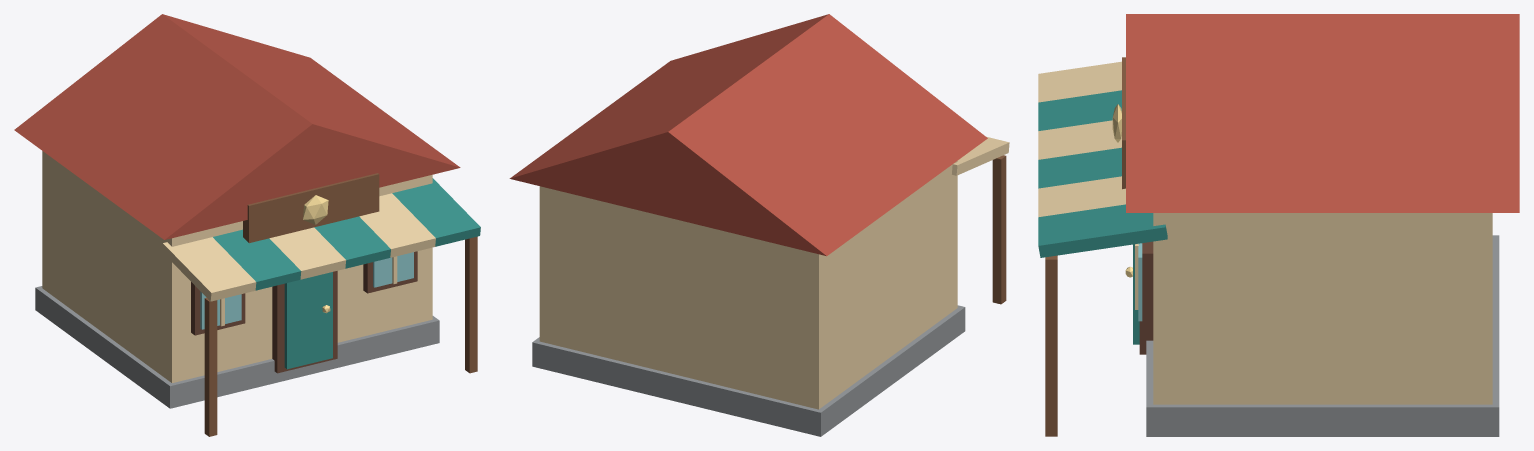
File: shop.glb
The picture shows the model from 3 angles, left to right: view 1: azimuth 30°, elevation 25°; view 2: azimuth 150°, elevation 25°; view 3: azimuth 270°, elevation 25°; orthographic projection. The views are drawn at different scales.
Visible parts, largest first — view 1: gable_roof, walls, foundation, shop_sign, door, awning, awning.005, awning.001, awning.004, awning.003, awning.002, awning_post (+7 smaller); view 2: walls, gable_roof, foundation, awning_post, awning; view 3: gable_roof, walls, foundation, awning.005, awning.004, awning, awning.003, awning.001, awning_post.001, awning.002, window_frame.001, shop_sign.
Boxes of the visible parts, box(x1,y1,x2,y2) form: gable_roof: box(14, 14, 460, 239); walls: box(42, 151, 432, 382); foundation: box(35, 286, 439, 408); shop_sign: box(243, 173, 379, 243); door: box(284, 272, 332, 369); awning: box(162, 237, 256, 301); awning.005: box(392, 178, 480, 246); awning.001: box(213, 229, 301, 290); awning.004: box(359, 193, 435, 257); awning.003: box(314, 216, 390, 268); awning.002: box(269, 227, 346, 279); awning_post: box(204, 297, 217, 436); walls: box(539, 161, 957, 409); gable_roof: box(509, 14, 987, 256); foundation: box(532, 305, 965, 436); awning_post: box(992, 155, 1006, 304); awning: box(952, 136, 1009, 175); gable_roof: box(1126, 14, 1519, 212); walls: box(1153, 213, 1492, 404); foundation: box(1146, 235, 1499, 436); awning.005: box(1038, 204, 1167, 257); awning.004: box(1038, 176, 1125, 217); awning: box(1038, 61, 1121, 102); awning.003: box(1038, 147, 1121, 188); awning.001: box(1038, 90, 1121, 130); awning_post.001: box(1045, 255, 1057, 436); awning.002: box(1038, 120, 1121, 159); window_frame.001: box(1142, 241, 1153, 332); shop_sign: box(1122, 57, 1125, 189).
Bounding box in the file's own units: 3.3 × 2.74 × 3.55.
